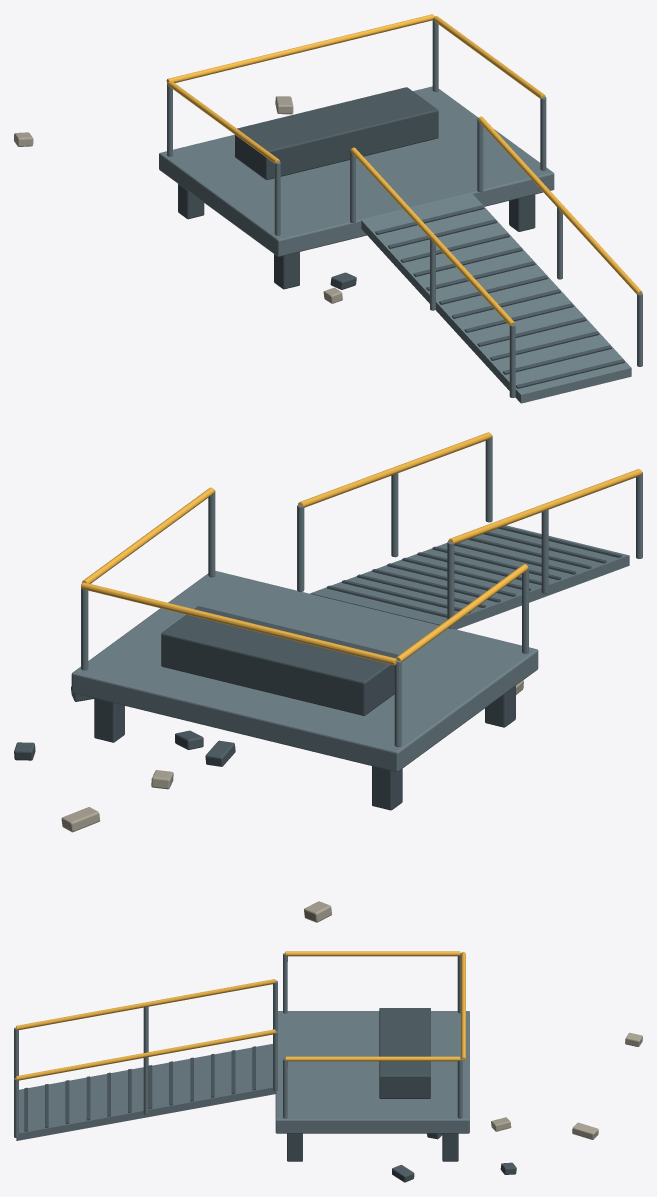
File: control_platform_d3.glb
The picture shows the model from 3 angles, top to bottom: view 1: azimuth 30°, elevation 25°; view 2: azimuth 150°, elevation 25°; view 3: azimuth 270°, elevation 25°; orthographic projection. The views are drawn at different scales.
Visible parts, largest first — view 1: Operator platform.007, Human access ramp.007, Ruined console.001, Platform back rail.007, Ramp handrail.014, Ramp handrail.015, Platform side rail.015, Platform side rail.014, Platform pier.030, Platform pier.028, Platform pier.029; view 2: Operator platform.007, Ruined console.001, Human access ramp.007, Platform back rail.007, Ramp handrail.014, Ramp handrail.015, Platform side rail.014, Platform side rail.015, Platform pier.029, Platform pier.031, Platform pier.028, Ramp rail post.047; view 3: Operator platform.007, Human access ramp.007, Ruined console.001, Ramp handrail.014, Ramp handrail.015, Platform side rail.014, Platform side rail.015, Platform back rail.007, Platform pier.031, Platform pier.030, Platform rail post.031, Ramp rail post.046.
Part boxes in pixels (left/top/right/bottom): Operator platform.007: left=159, top=86, right=554, bottom=256; Human access ramp.007: left=361, top=193, right=631, bottom=403; Ruined console.001: left=235, top=87, right=438, bottom=179; Platform back rail.007: left=166, top=14, right=434, bottom=82; Ramp handrail.014: left=350, top=147, right=514, bottom=325; Ramp handrail.015: left=478, top=116, right=642, bottom=294; Platform side rail.015: left=433, top=16, right=545, bottom=98; Platform side rail.014: left=167, top=80, right=279, bottom=163; Platform pier.030: left=509, top=194, right=535, bottom=231; Platform pier.028: left=274, top=252, right=299, bottom=289; Platform pier.029: left=178, top=184, right=204, bottom=219; Operator platform.007: left=71, top=571, right=538, bottom=771; Ruined console.001: left=161, top=606, right=398, bottom=715; Human access ramp.007: left=310, top=525, right=629, bottom=629; Platform back rail.007: left=81, top=582, right=397, bottom=665; Ramp handrail.014: left=448, top=469, right=642, bottom=544; Ramp handrail.015: left=298, top=432, right=491, bottom=507; Platform side rail.014: left=396, top=564, right=528, bottom=661; Platform side rail.015: left=82, top=487, right=214, bottom=583; Platform pier.029: left=372, top=766, right=402, bottom=810; Platform pier.031: left=94, top=698, right=124, bottom=742; Platform pier.028: left=485, top=686, right=515, bottom=727; Ramp rail post.047: left=297, top=505, right=304, bottom=591; Operator platform.007: left=275, top=1011, right=469, bottom=1133; Human access ramp.007: left=16, top=1044, right=275, bottom=1140; Ruined console.001: left=379, top=1008, right=430, bottom=1098; Ramp handrail.014: left=16, top=979, right=275, bottom=1030; Ramp handrail.015: left=16, top=1029, right=275, bottom=1080; Platform side rail.014: left=285, top=951, right=460, bottom=956; Platform side rail.015: left=285, top=1056, right=460, bottom=1061; Platform back rail.007: left=461, top=952, right=465, bottom=1060; Platform pier.031: left=442, top=1133, right=458, bottom=1161; Platform pier.030: left=287, top=1133, right=302, bottom=1161; Platform rail post.031: left=457, top=1058, right=462, bottom=1118; Ramp rail post.046: left=143, top=1056, right=148, bottom=1114.
Size of the model in its own units: 5.19 by 1.96 by 9.71.
